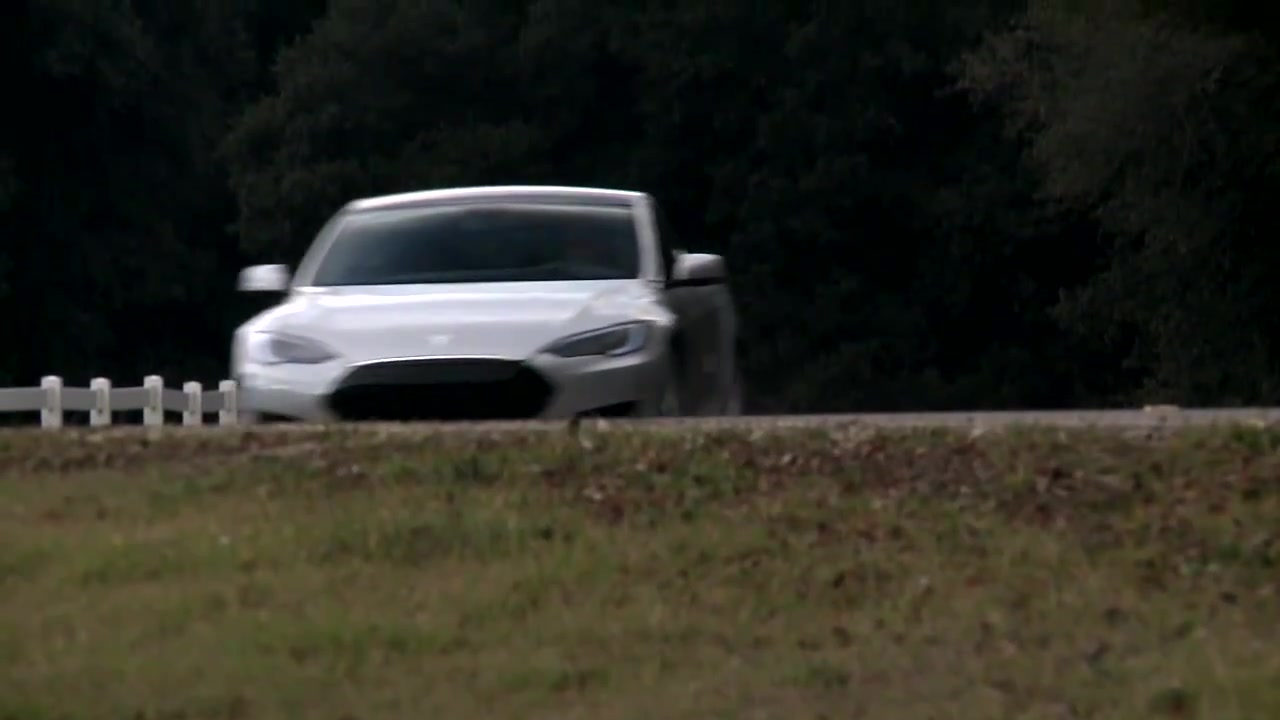car: (227, 183, 746, 432)
